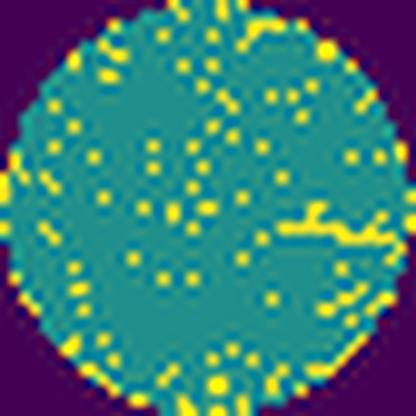Scratch: (276, 198, 406, 268)
